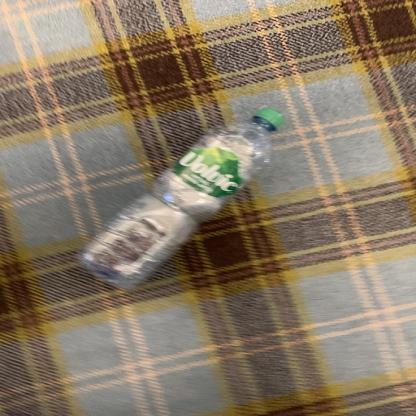trash: (77, 108, 284, 295)
